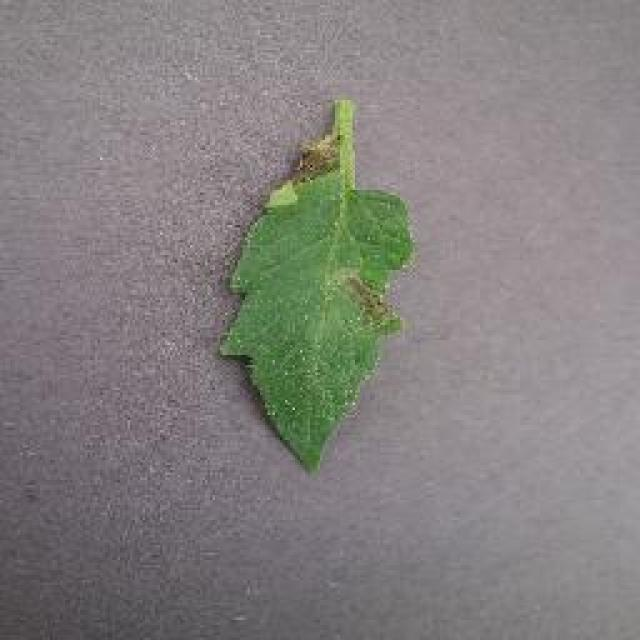Tomato___Late_blight: (219, 101, 415, 477)
